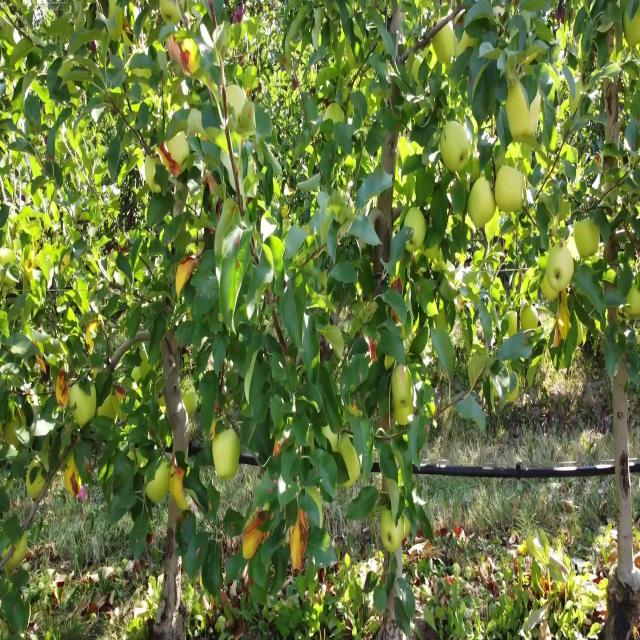apple: (508, 78, 543, 142), (440, 120, 480, 172), (432, 14, 467, 66), (496, 163, 527, 215), (212, 433, 240, 484), (472, 177, 496, 228), (176, 255, 200, 299), (432, 21, 456, 64), (244, 519, 267, 562), (384, 511, 405, 555), (576, 220, 601, 256), (216, 447, 240, 484), (68, 462, 92, 498), (292, 519, 308, 572), (64, 462, 88, 496), (172, 469, 190, 512), (56, 369, 75, 407), (160, 142, 180, 178), (148, 469, 168, 505), (344, 447, 360, 491), (624, 7, 640, 50), (392, 398, 415, 427), (392, 369, 413, 400), (84, 319, 101, 354), (556, 305, 572, 341), (456, 14, 469, 57), (520, 305, 539, 334), (560, 298, 572, 341), (184, 42, 198, 76), (488, 213, 503, 242), (628, 284, 640, 320), (581, 248, 602, 268), (400, 135, 415, 162), (544, 277, 560, 302), (168, 35, 181, 64), (508, 376, 520, 405), (548, 127, 560, 155), (508, 312, 519, 338), (368, 341, 379, 363), (464, 220, 475, 242), (232, 7, 244, 25), (116, 383, 127, 402), (276, 440, 288, 457), (384, 355, 396, 370), (504, 234, 514, 251), (276, 440, 287, 455)
